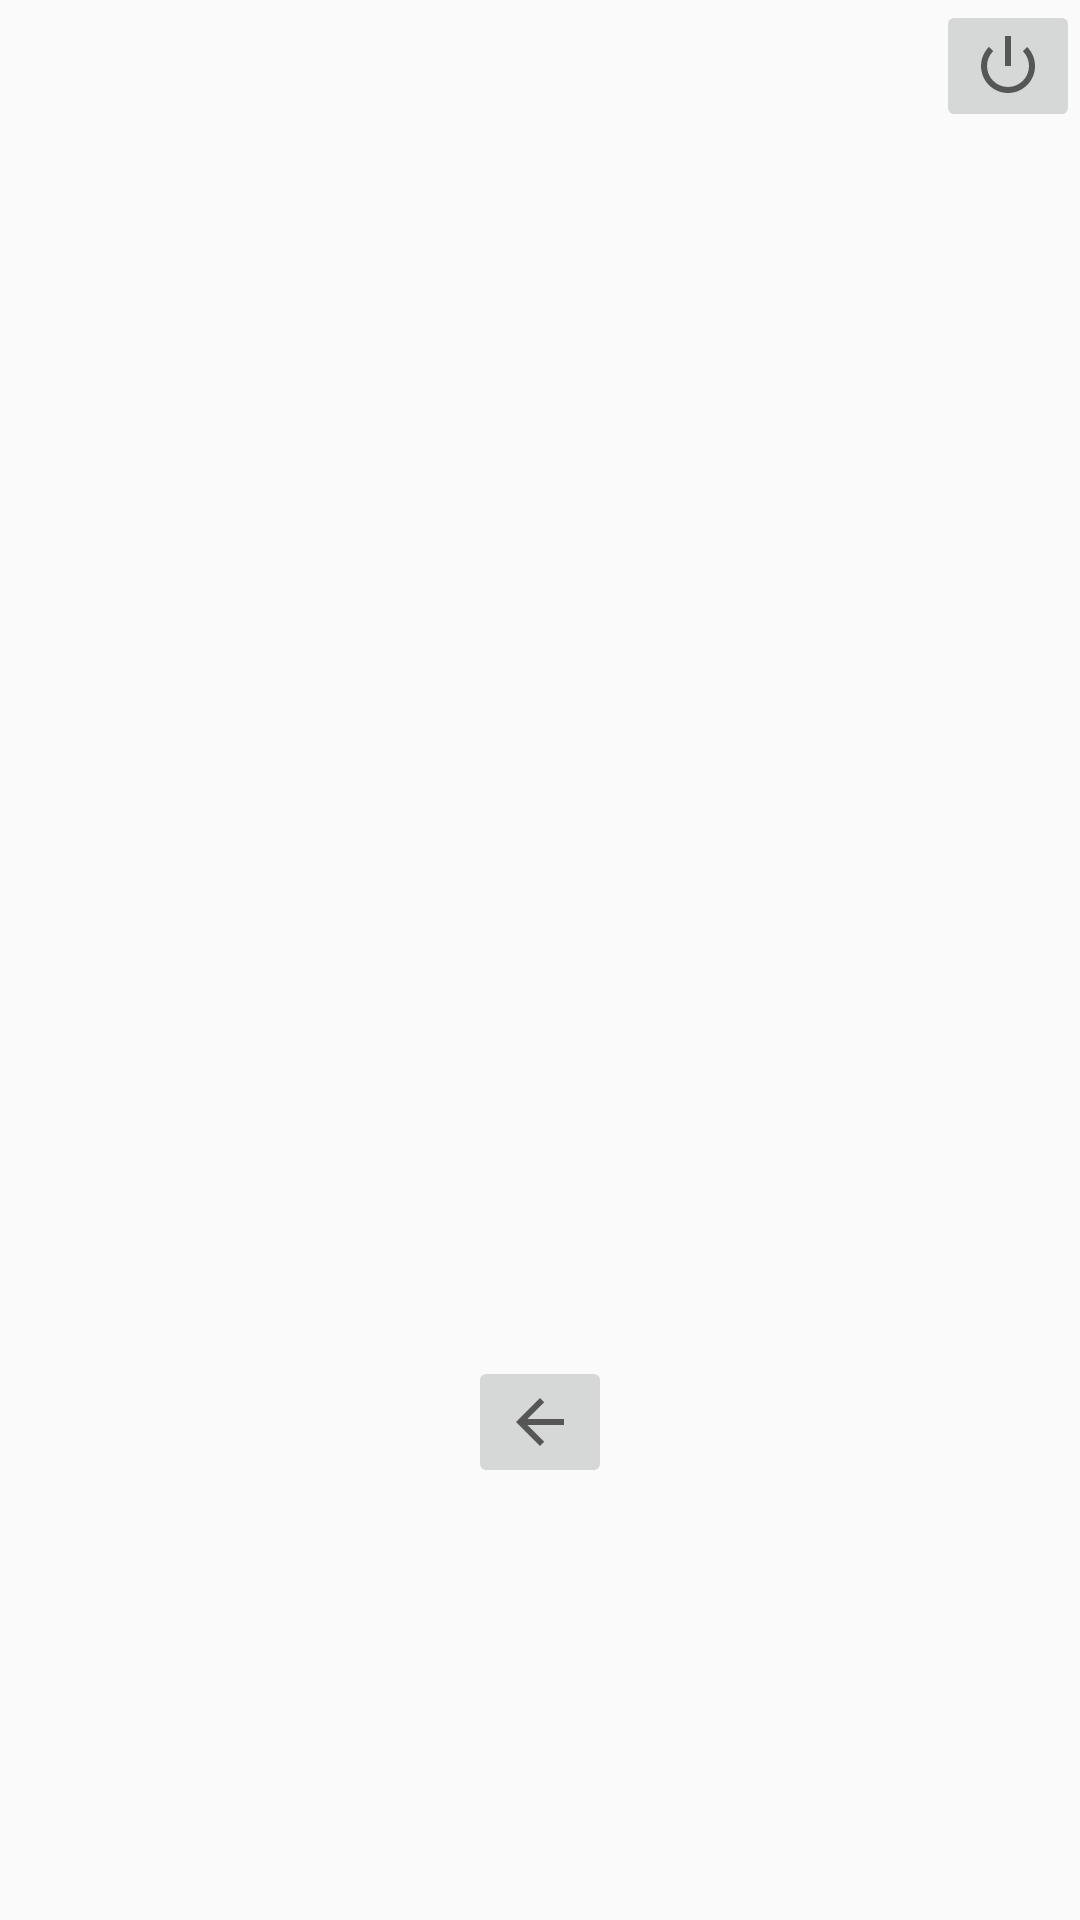

Icon bounding boxes for this 1080px x 1920px phone screenshot, format (x1, y1, x2, y2):
lock power off: (948, 18, 1068, 114)
